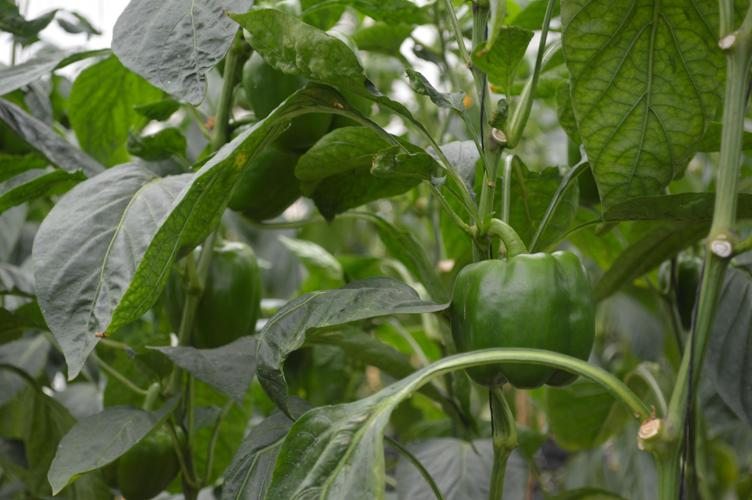BellPepper: (445, 251, 594, 384), (160, 241, 254, 339), (243, 59, 329, 144)
